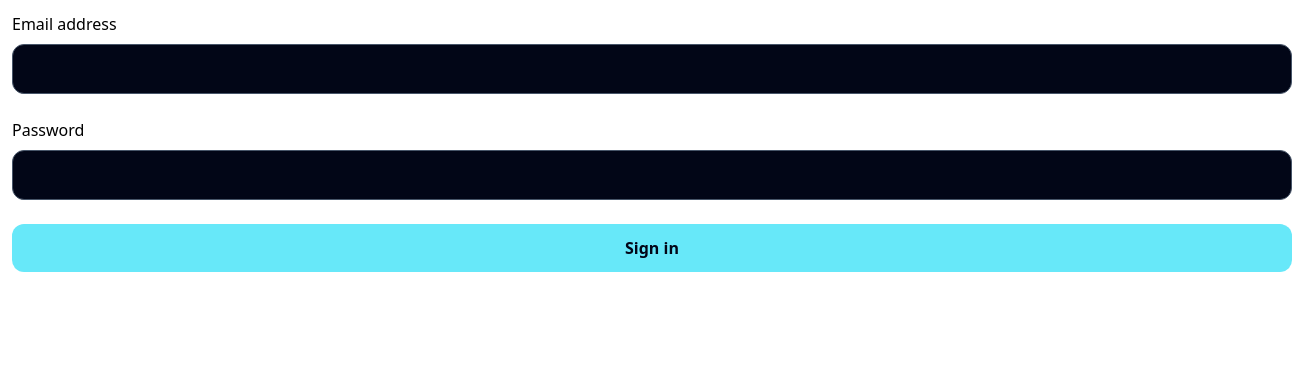
login form (mocked Supabase) › handles invalid credentials without exposing upstream details
The width and height of the screenshot is (1304, 367).
In the field labelled "Email address": (652, 69) [12,44,1292,94], type "person@example.invalid"
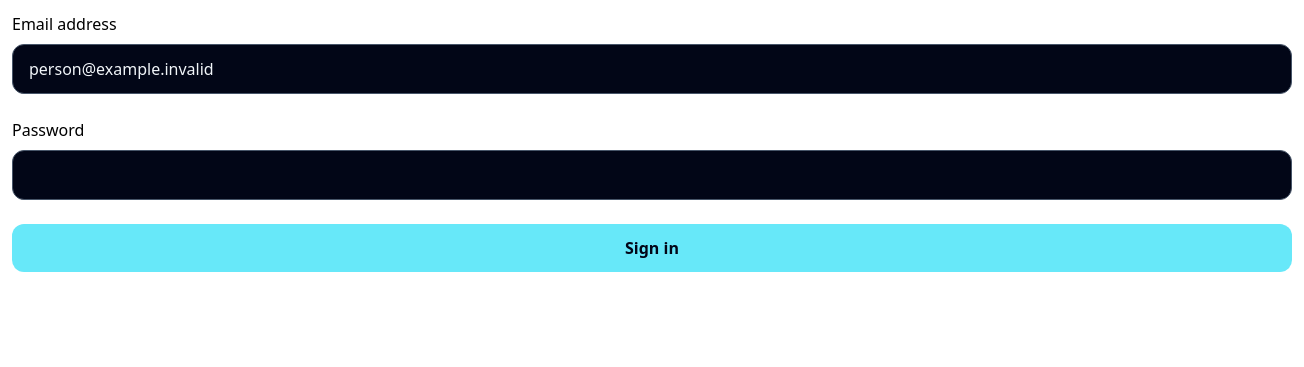
In the password field labelled "Password": (652, 175) [12,150,1292,200], type " test-password "
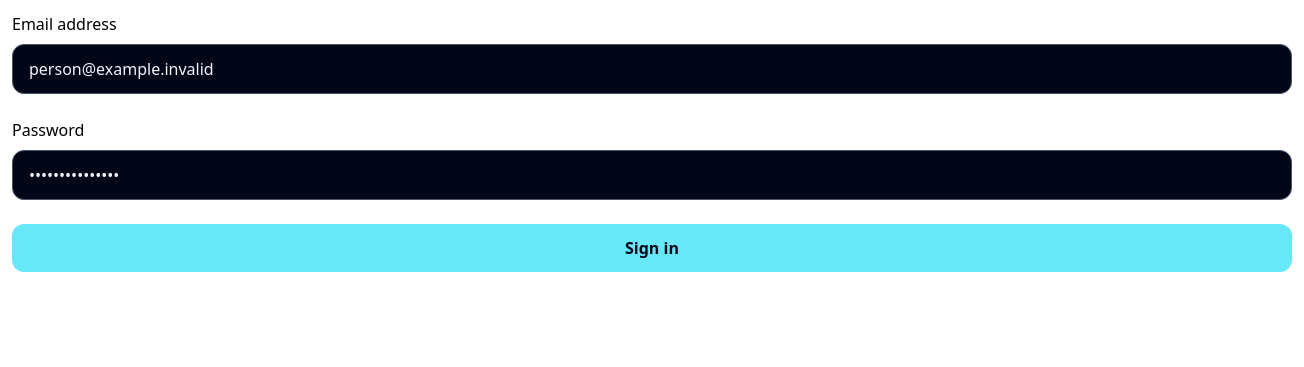
Click the button "Sign in": (652, 248) [12,224,1292,272]
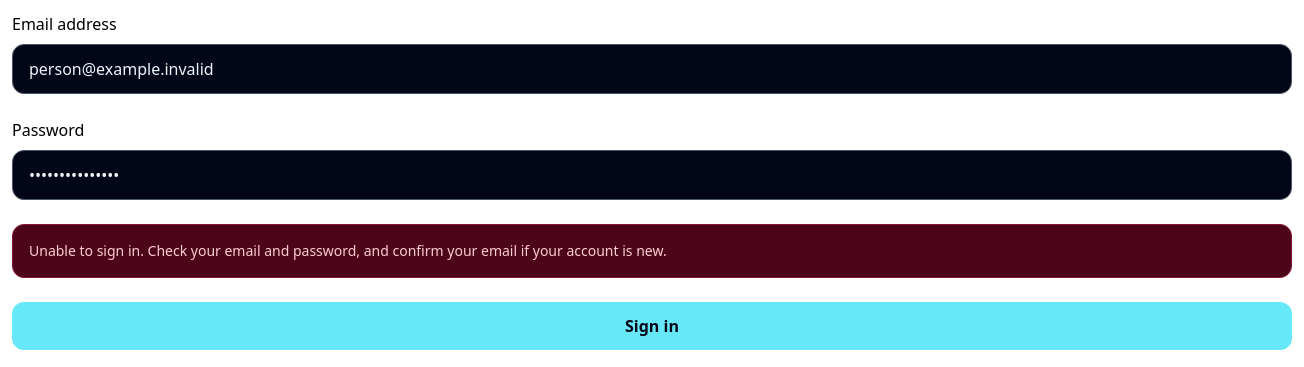
expect the button "Sign in" is enabled: met, box [12,302,1292,350]
expect the message shows "Unable to sign in": met, box [29,241,667,260]
